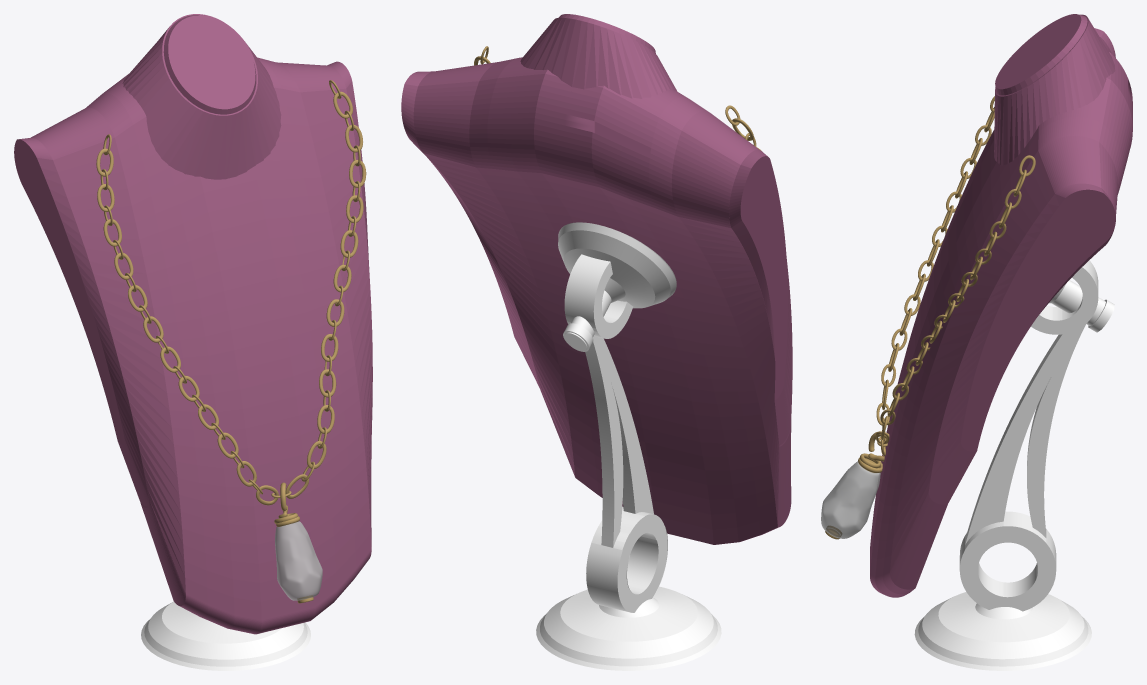
The picture shows the model from 3 angles, left to right: view 1: azimuth 30°, elevation 25°; view 2: azimuth 150°, elevation 25°; view 3: azimuth 270°, elevation 25°; orthographic projection. The views are drawn at different scales.
Visible parts, largest first — view 1: necklace, 11777_necklace_v1_l3; view 2: necklace; view 3: necklace, 11777_necklace_v1_l3.
Boxes of the visible parts, x1=… form: necklace: x1=14, y1=14, x2=372, y2=670; 11777_necklace_v1_l3: x1=96, y1=80, x2=366, y2=603; necklace: x1=401, y1=14, x2=792, y2=670; necklace: x1=870, y1=14, x2=1132, y2=670; 11777_necklace_v1_l3: x1=821, y1=96, x2=1035, y2=539.
Size of the model in its own units: 0.3271 by 0.5792 by 0.266.
